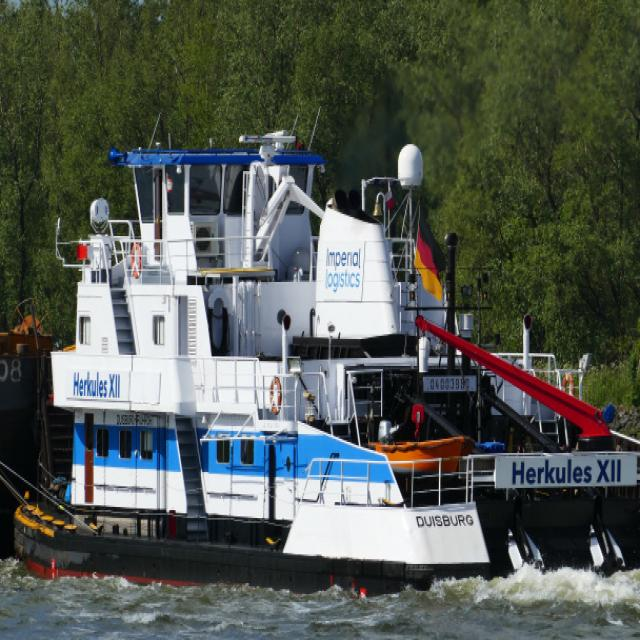tugboat: (5, 124, 640, 611)
